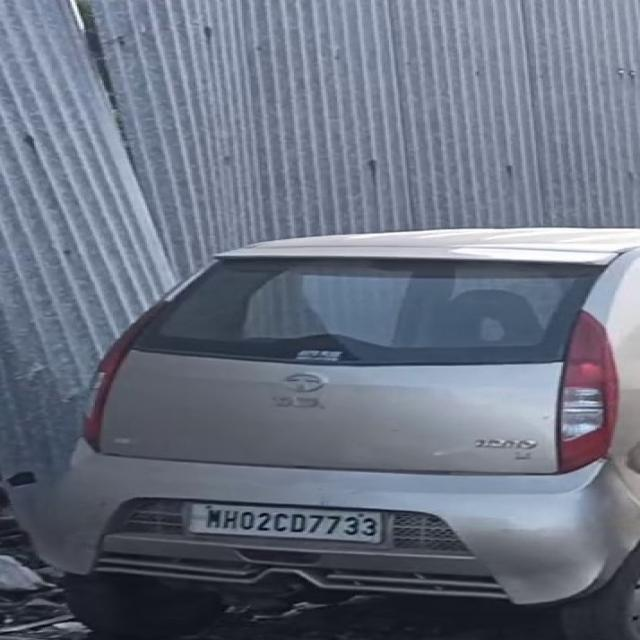Plate: (188, 502, 387, 542)
